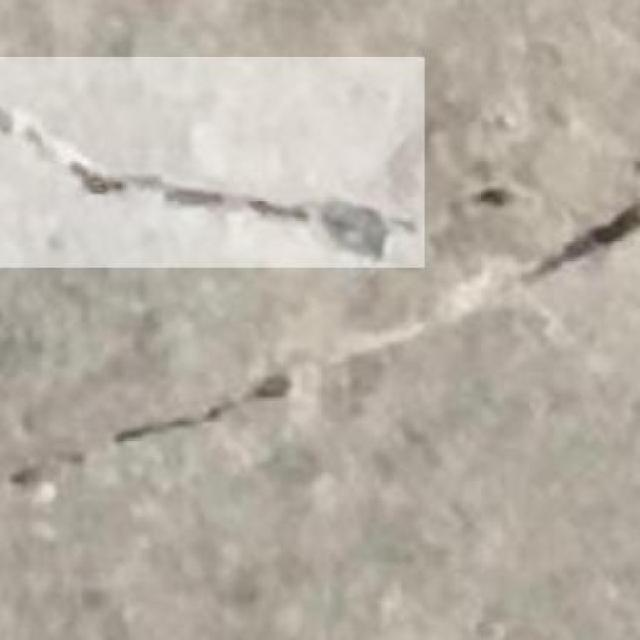Crack: (2, 43, 415, 236), (4, 353, 333, 483), (495, 170, 638, 300)
